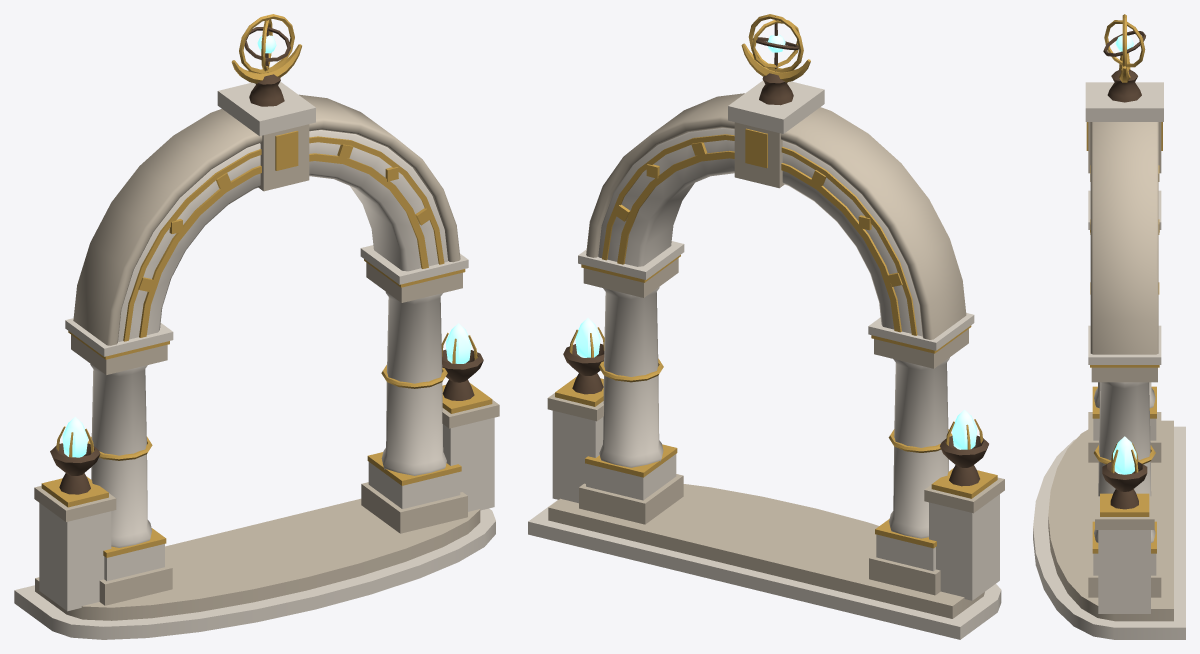
The model's file is landmark_world_portal.glb.
3 renders of one model, left to right at view 1: azimuth 30°, elevation 25°; view 2: azimuth 150°, elevation 25°; view 3: azimuth 270°, elevation 25°, orthographic. The views are drawn at different scales.
Parts seen in each view (by area): view 1: landmark_world_portal; view 2: landmark_world_portal; view 3: landmark_world_portal.
Part boxes in pixels (box(x1,y1,x2,y2)): landmark_world_portal: box(14, 14, 499, 639); landmark_world_portal: box(528, 14, 1004, 639); landmark_world_portal: box(1033, 14, 1185, 639).
Bounding box in the file's own units: 5.6 × 6.79 × 1.8.
